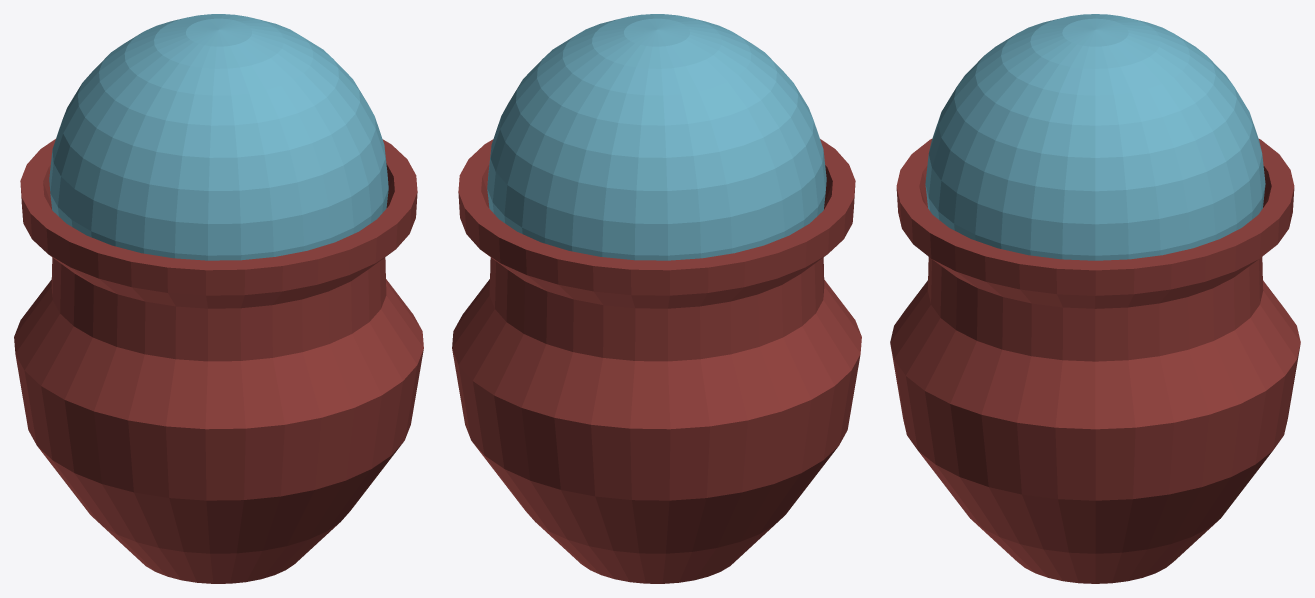
Rendered from SK_P_Smashroom_01_Lvl3.fbx.
3 renders of one model, left to right at view 1: azimuth 30°, elevation 25°; view 2: azimuth 150°, elevation 25°; view 3: azimuth 270°, elevation 25°, orthographic.
Parts seen in each view (by area): view 1: Pot_01_Lvl3; view 2: Pot_01_Lvl3; view 3: Pot_01_Lvl3.
Boxes of the visible parts, x1=… form: Pot_01_Lvl3: x1=14, y1=14, x2=423, y2=583; Pot_01_Lvl3: x1=452, y1=14, x2=861, y2=583; Pot_01_Lvl3: x1=890, y1=14, x2=1300, y2=583.
Bounding box in the file's own units: 103 × 103 × 144.
